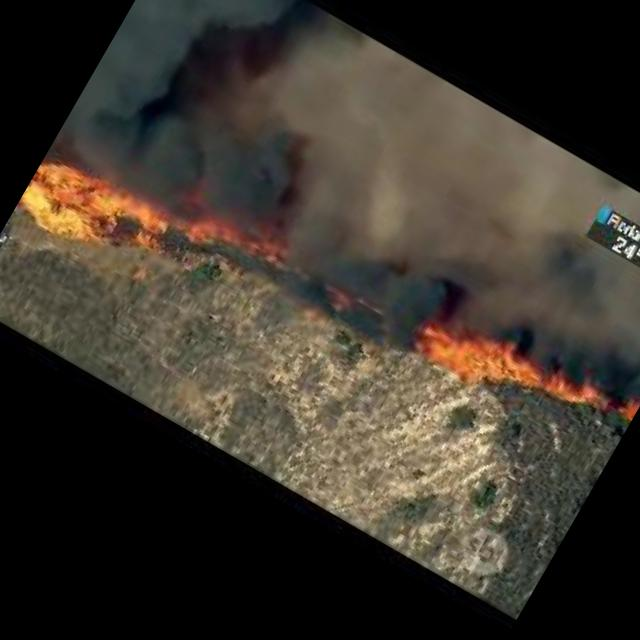fire: (12, 120, 294, 344), (417, 296, 610, 446), (619, 394, 640, 420)
